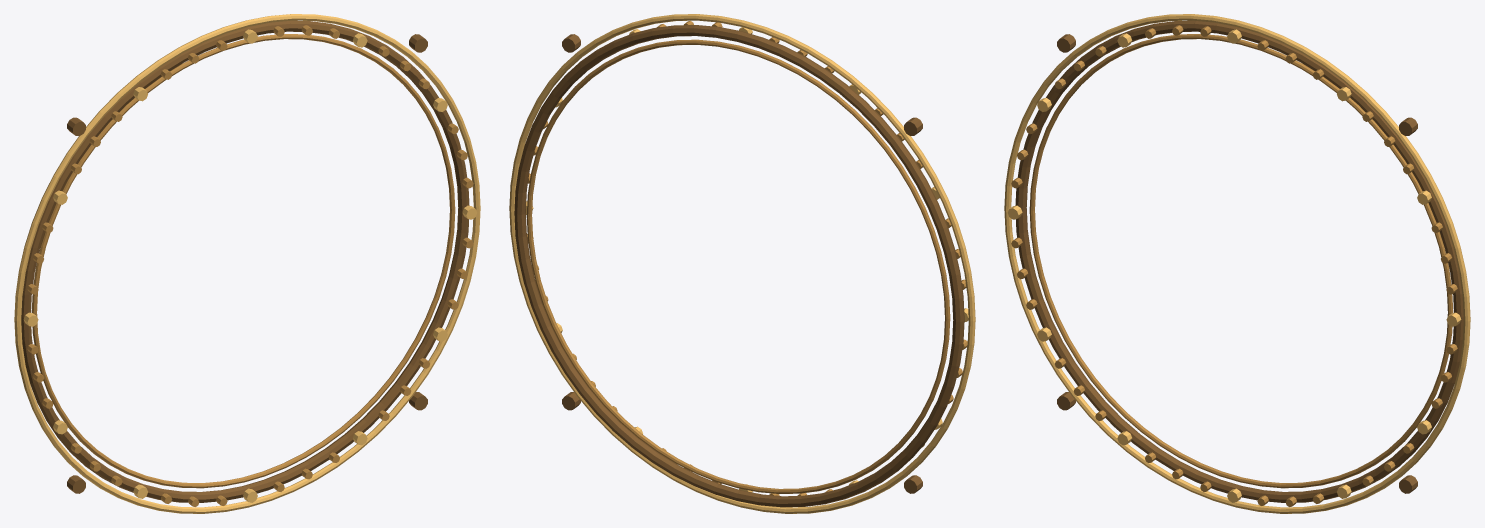
Rendered from SM_S3_DotRing.fbx.
3 views of the same model, side by side, from view 1: azimuth 30°, elevation 25°; view 2: azimuth 150°, elevation 25°; view 3: azimuth 330°, elevation 25° (orthographic).
Parts seen in each view (by area): view 1: SM_S3_DotRing; view 2: SM_S3_DotRing; view 3: SM_S3_DotRing.
Boxes of the visible parts, bbox=[...] form: SM_S3_DotRing: bbox=[14, 14, 480, 513]; SM_S3_DotRing: bbox=[509, 14, 975, 513]; SM_S3_DotRing: bbox=[1004, 14, 1470, 513].
Size of the model in its own units: 272 by 11 by 272.
